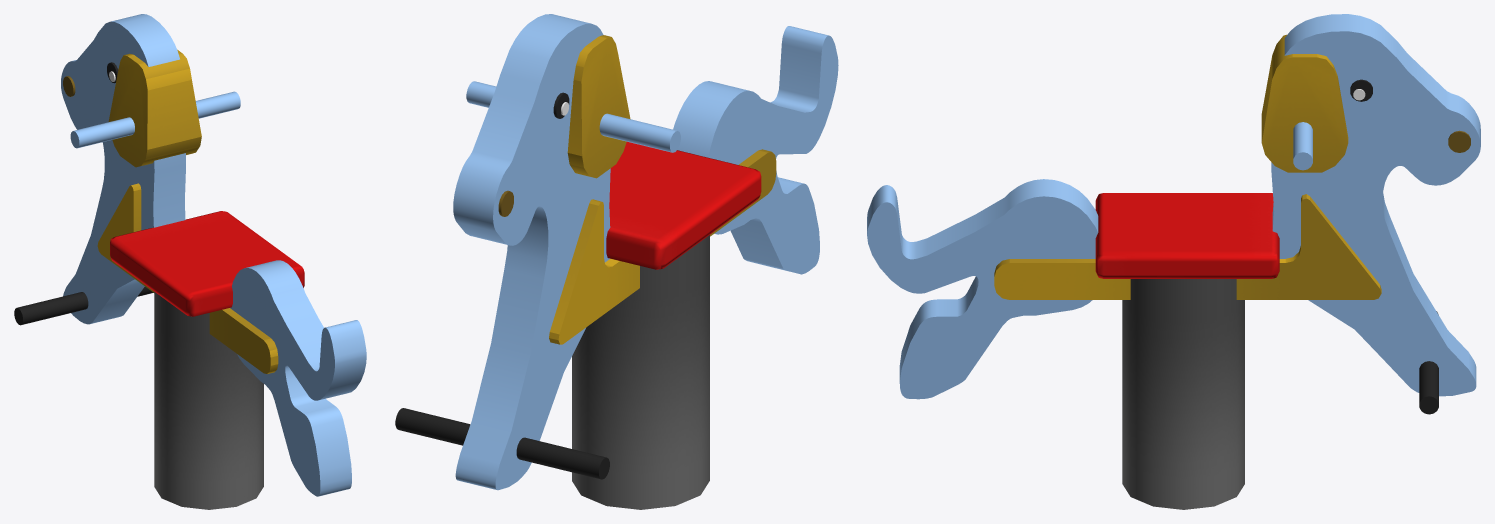
The model's file is ETC0210013.fbx.
3 renders of one model, left to right at view 1: azimuth 30°, elevation 25°; view 2: azimuth 150°, elevation 25°; view 3: azimuth 270°, elevation 25°, orthographic. The views are drawn at different scales.
Visible parts, largest first — view 1: smETC0210013; view 2: smETC0210013; view 3: smETC0210013.
Boxes of the visible parts, <box> form: smETC0210013: <box>14,14,366,509</box>; smETC0210013: <box>395,14,838,509</box>; smETC0210013: <box>867,14,1480,509</box>.
Bounding box in the file's own units: 53.79 × 131 × 158.
Materials: 1 (1 with a texture image).
